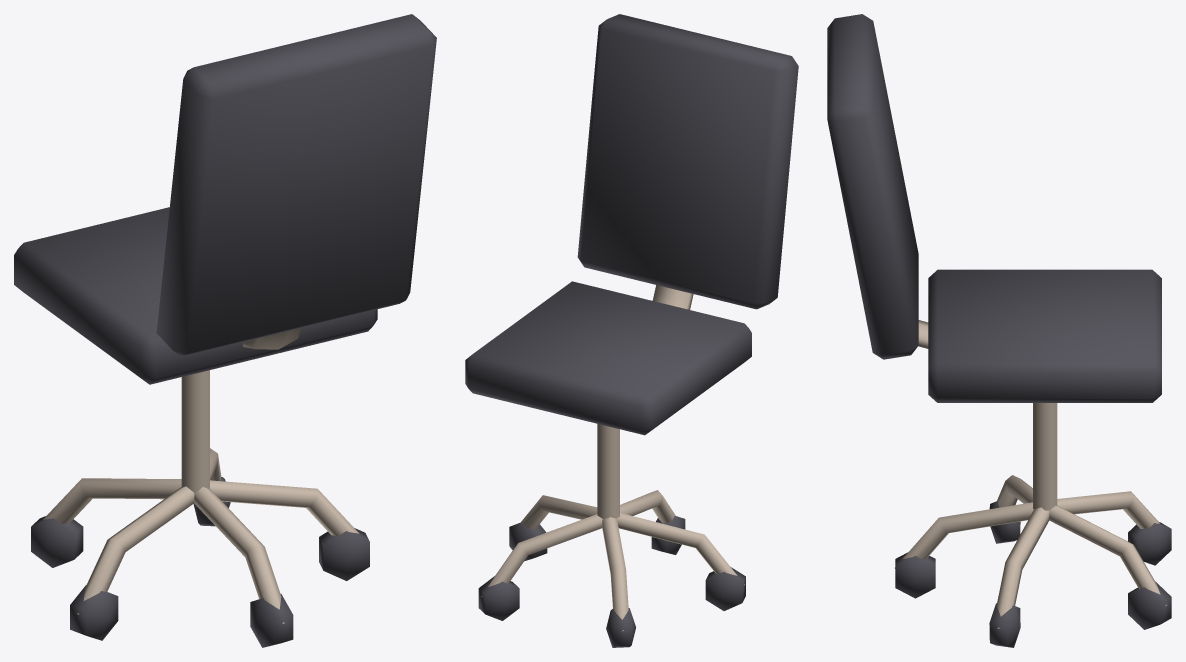
File: chair.fbx
3 renders of one model, left to right at view 1: azimuth 30°, elevation 25°; view 2: azimuth 150°, elevation 25°; view 3: azimuth 270°, elevation 25°, orthographic. The views are drawn at different scales.
Visible parts, largest first — view 1: Sweep_1; view 2: Sweep_1; view 3: Sweep_1.
Part boxes in pixels (<box>): Sweep_1: <box>14,14,436,647</box>; Sweep_1: <box>465,14,798,647</box>; Sweep_1: <box>827,14,1171,647</box>.
Size of the model in its own units: 62.17 by 126 by 73.67.
1 material, 1 textured.
